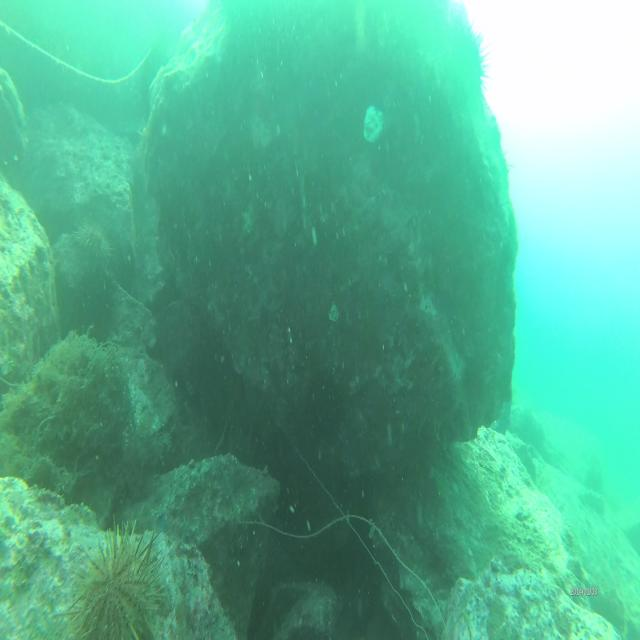echinus: (66, 522, 168, 639), (72, 217, 114, 268)
